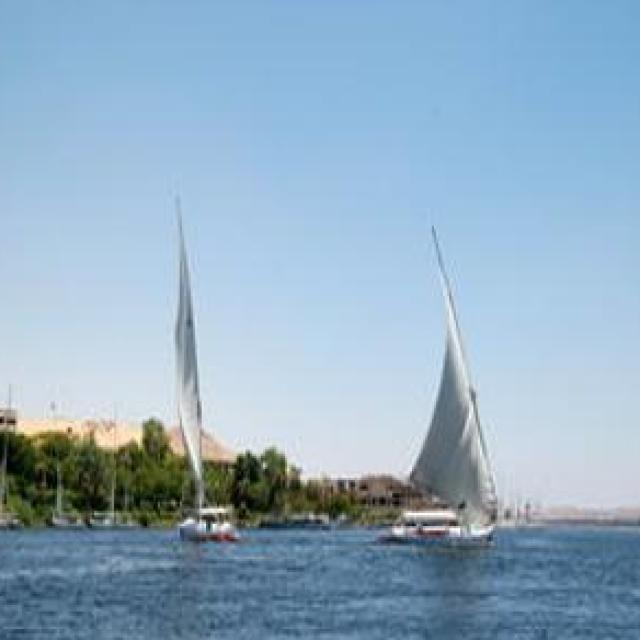sailboat: (387, 226, 507, 543), (156, 187, 254, 543)
